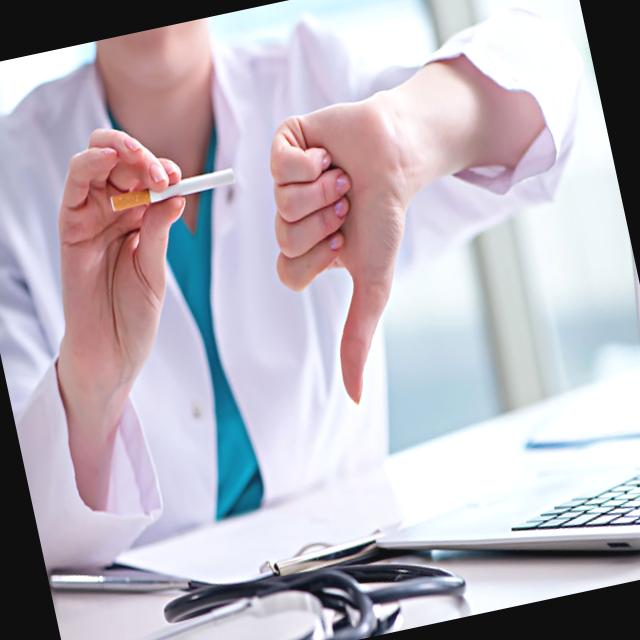cigarette: (177, 166, 238, 198)
